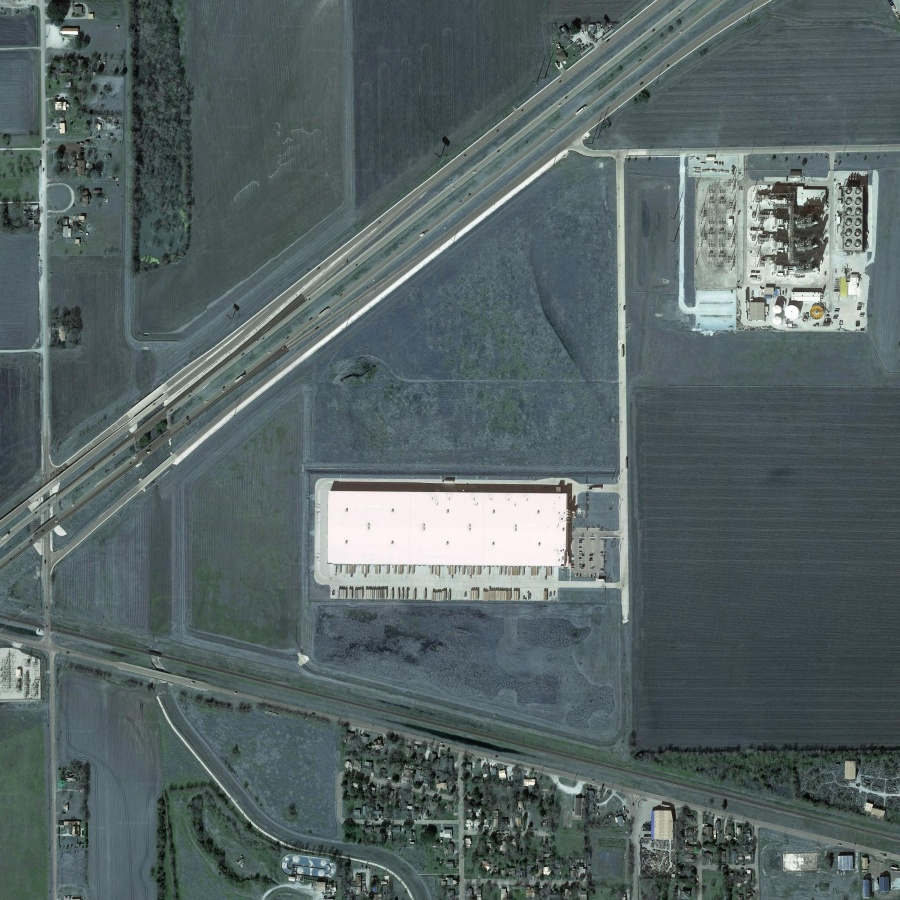PowerPlant: (681, 149, 875, 338)
